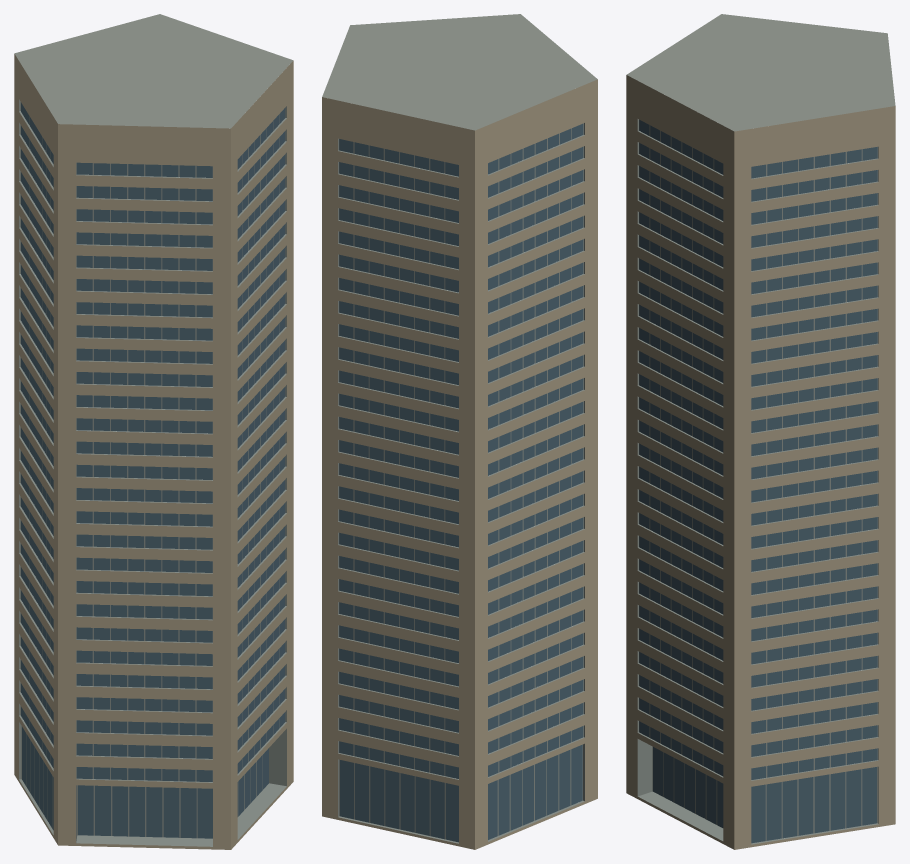
The model's file is baltimore-world-trade-center-near.glb.
The picture shows the model from 3 angles, left to right: view 1: azimuth 30°, elevation 25°; view 2: azimuth 150°, elevation 25°; view 3: azimuth 270°, elevation 25°; orthographic projection.
Visible parts, largest first — view 1: baltimore-world-trade-center-0-stone, baltimore-world-trade-center-0-glass, baltimore-world-trade-center-0-reveal, baltimore-world-trade-center-0-roof; view 2: baltimore-world-trade-center-0-stone, baltimore-world-trade-center-0-glass, baltimore-world-trade-center-0-roof, baltimore-world-trade-center-0-reveal; view 3: baltimore-world-trade-center-0-stone, baltimore-world-trade-center-0-glass, baltimore-world-trade-center-0-reveal, baltimore-world-trade-center-0-roof.
Boxes of the visible parts, x1,y1,x2,y2 form: baltimore-world-trade-center-0-stone: (14, 54, 293, 849); baltimore-world-trade-center-0-glass: (21, 102, 285, 838); baltimore-world-trade-center-0-reveal: (19, 99, 286, 846); baltimore-world-trade-center-0-roof: (14, 14, 293, 128); baltimore-world-trade-center-0-stone: (322, 79, 597, 849); baltimore-world-trade-center-0-glass: (339, 123, 583, 842); baltimore-world-trade-center-0-roof: (322, 14, 597, 130); baltimore-world-trade-center-0-reveal: (338, 123, 584, 843); baltimore-world-trade-center-0-stone: (626, 75, 895, 849); baltimore-world-trade-center-0-glass: (639, 120, 877, 843); baltimore-world-trade-center-0-reveal: (637, 119, 878, 844); baltimore-world-trade-center-0-roof: (626, 14, 895, 131).
Bounding box in the file's own units: 43.35 × 124 × 41.93.
